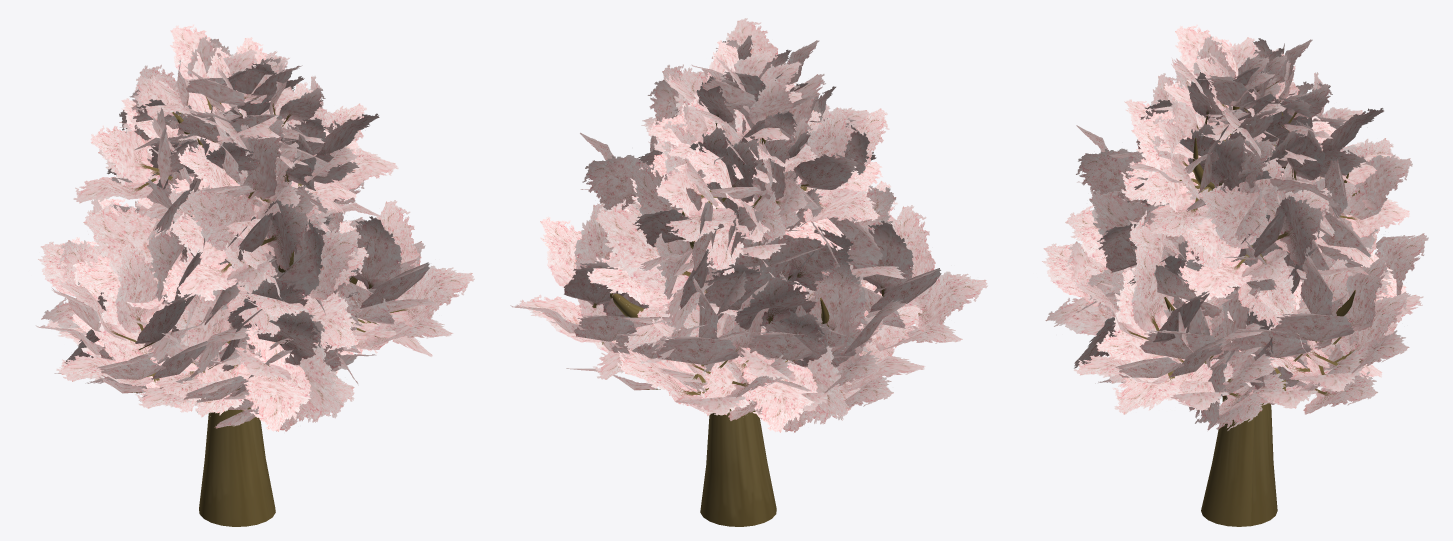
File: tree_sakura.fbx
The picture shows the model from 3 angles, left to right: view 1: azimuth 30°, elevation 25°; view 2: azimuth 150°, elevation 25°; view 3: azimuth 270°, elevation 25°; orthographic projection.
Parts seen in each view (by area): view 1: happa4, miki; view 2: happa4, miki; view 3: happa4, miki.
Boxes of the visible parts, box(x1,y1,x2,y2) form: happa4: box(35, 24, 474, 431); miki: box(176, 114, 357, 526); happa4: box(510, 18, 987, 432); miki: box(610, 138, 829, 526); happa4: box(1042, 24, 1428, 430); miki: box(1164, 106, 1355, 526).
Bounding box in the file's own units: 21.85 × 25.08 × 20.52.
